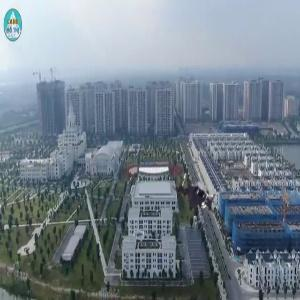drone: (167, 166, 228, 227)
